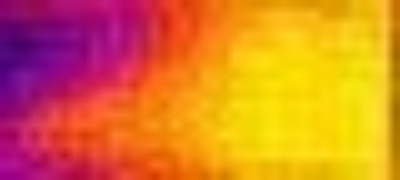Shadow: (1, 1, 136, 101), (1, 101, 74, 179)
